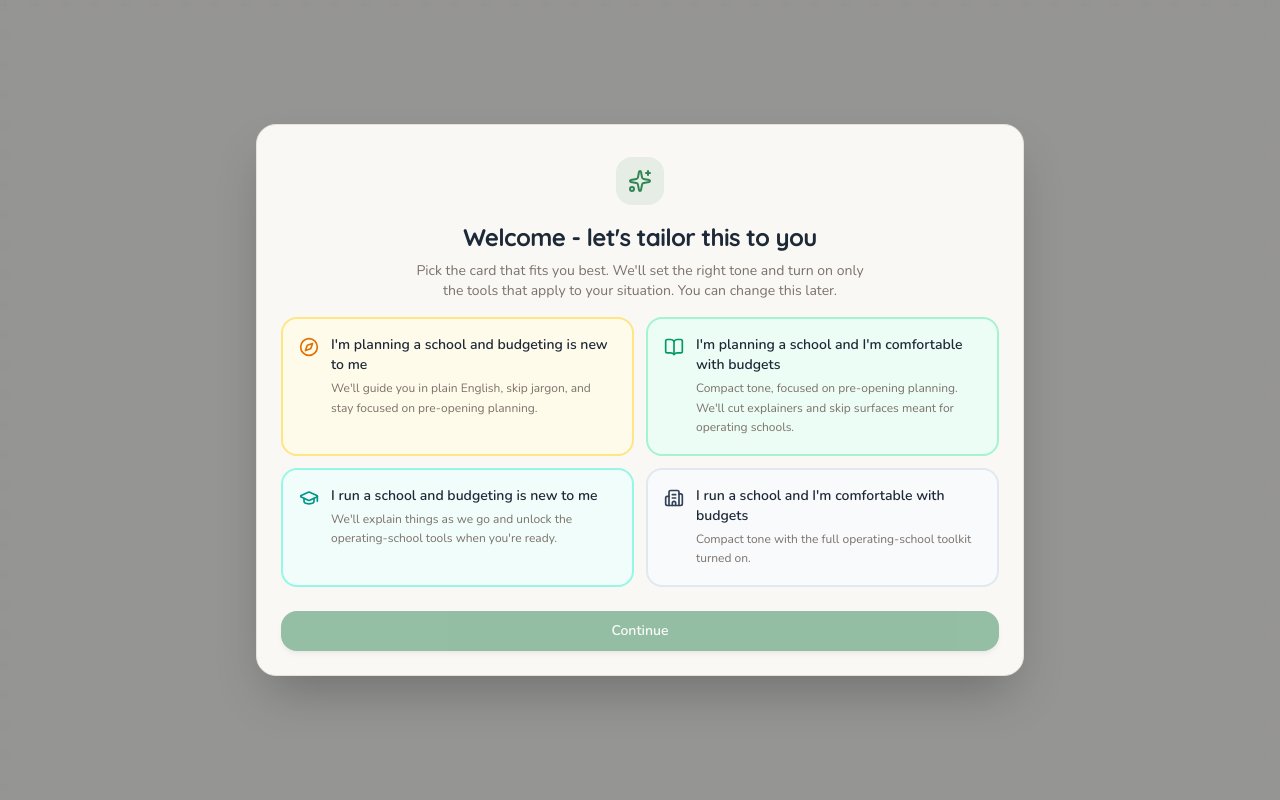
Test: FounderPersonaPrompt — picker + persistence › appears when persona is missing and disables submit until a bucket is picked
Expected: the button with test id "persona-prompt-submit" is disabled, [281,611,999,651]
Click the button with test id "persona-bucket-yet_to_launch-new_to_budgeting" at [458, 387], box [281,317,634,456]
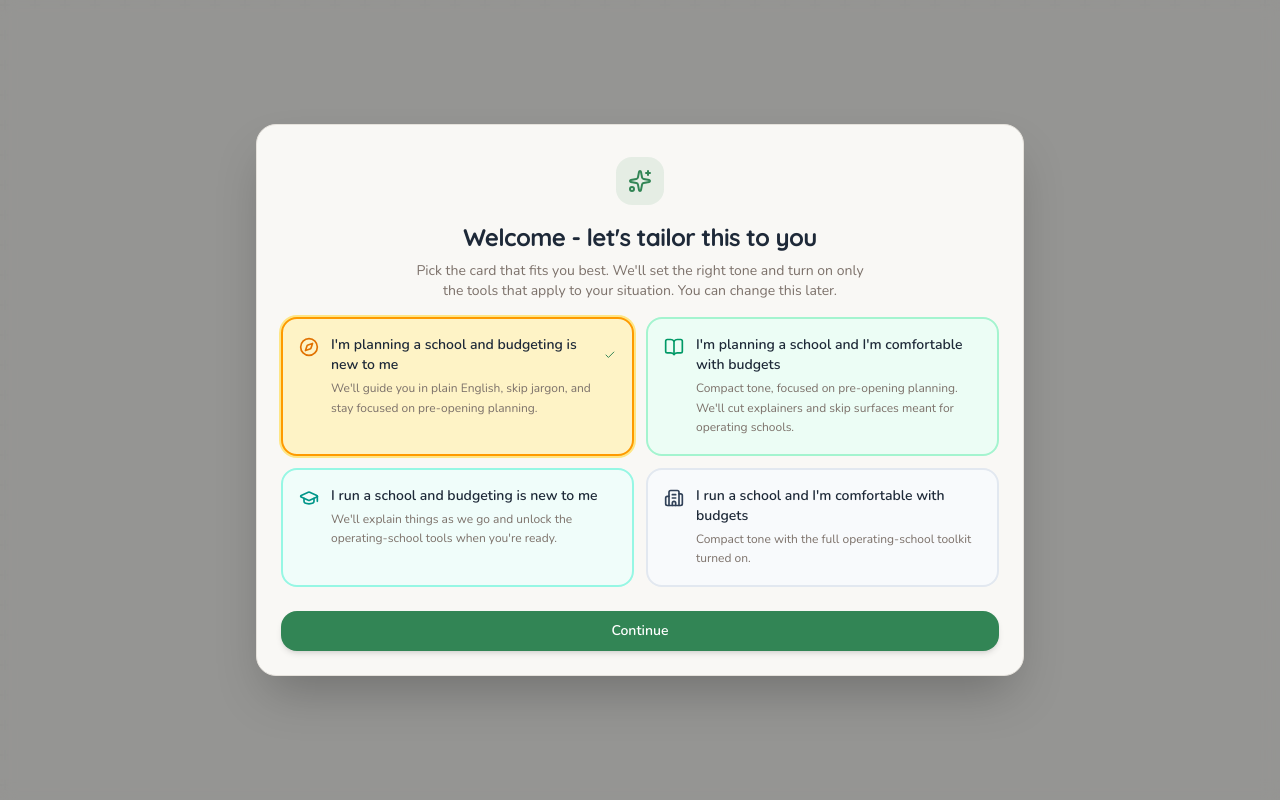
Expected: the button with test id "persona-prompt-submit" is enabled, [281,611,999,651]
